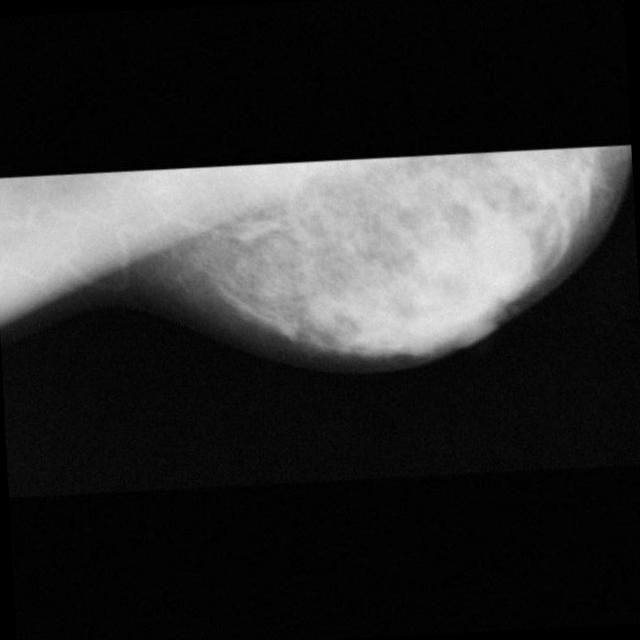ARCH: (227, 210, 270, 253)
